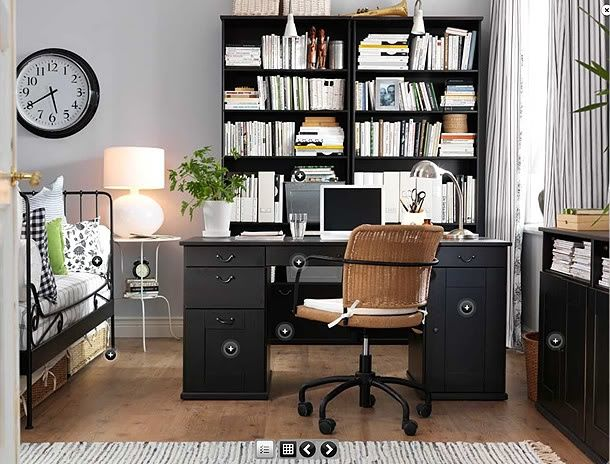chairs: (282, 222, 446, 437)
